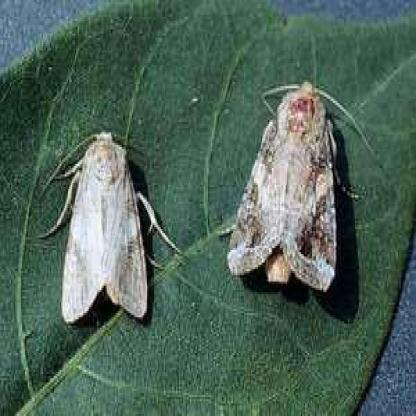armyworm: (226, 76, 375, 302), (42, 128, 180, 326)
